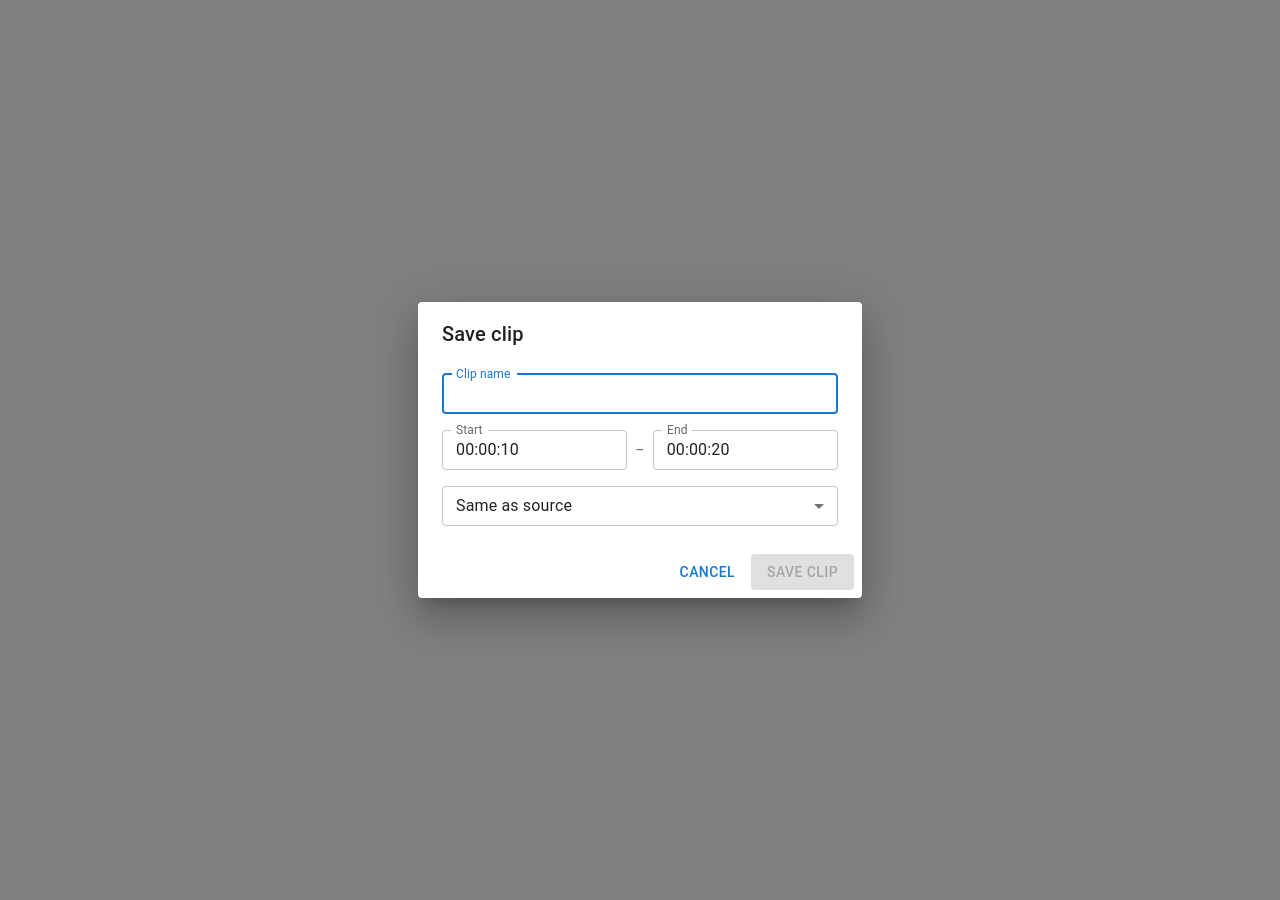
Test case: SaveClipDialog › reveals a freeform field for "Other..." and requires it before submitting
Type "New Clip" into the field labelled "Clip name" at (640, 394), box [442,374,838,414]
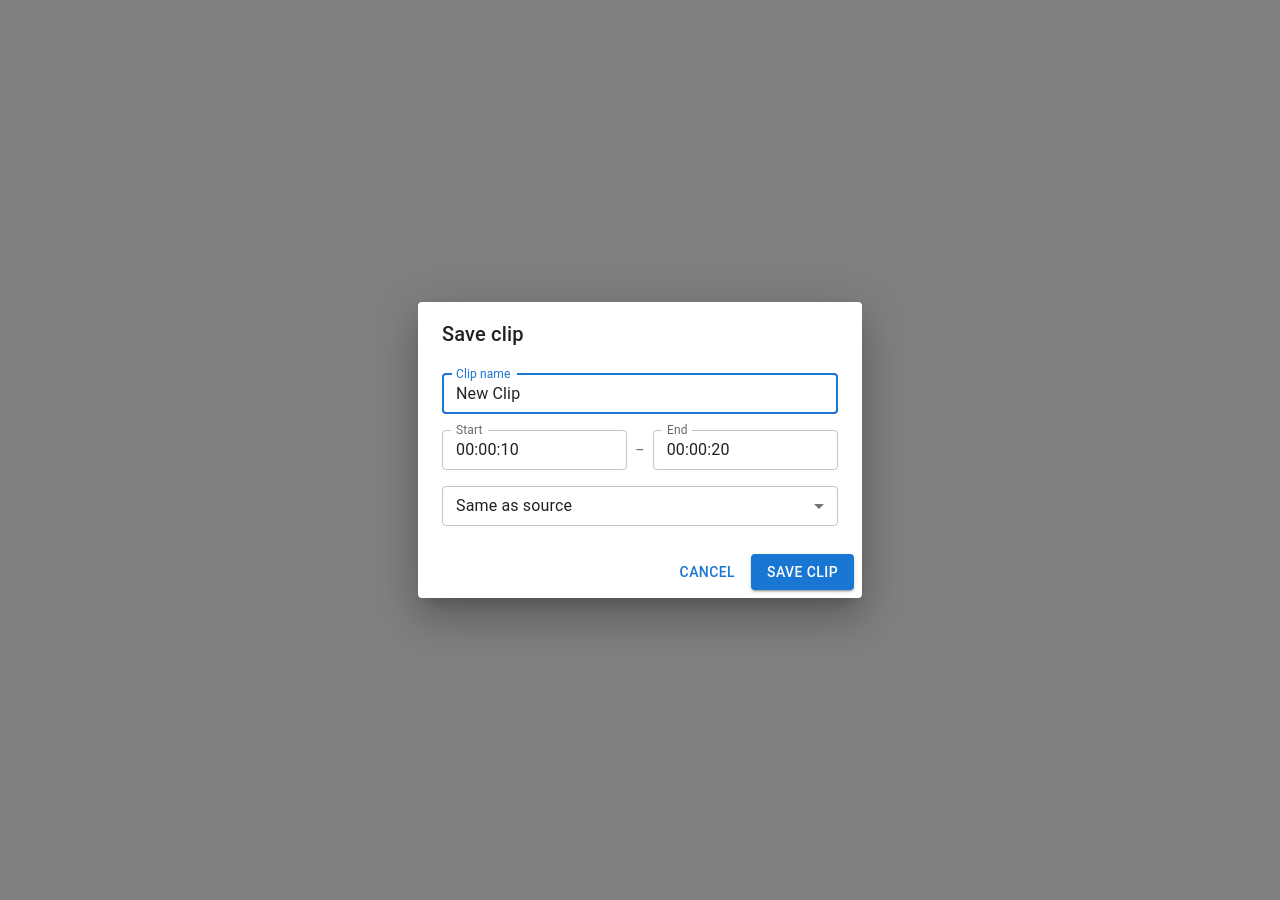
Click the dropdown at (514, 506), box [456,496,572,515]
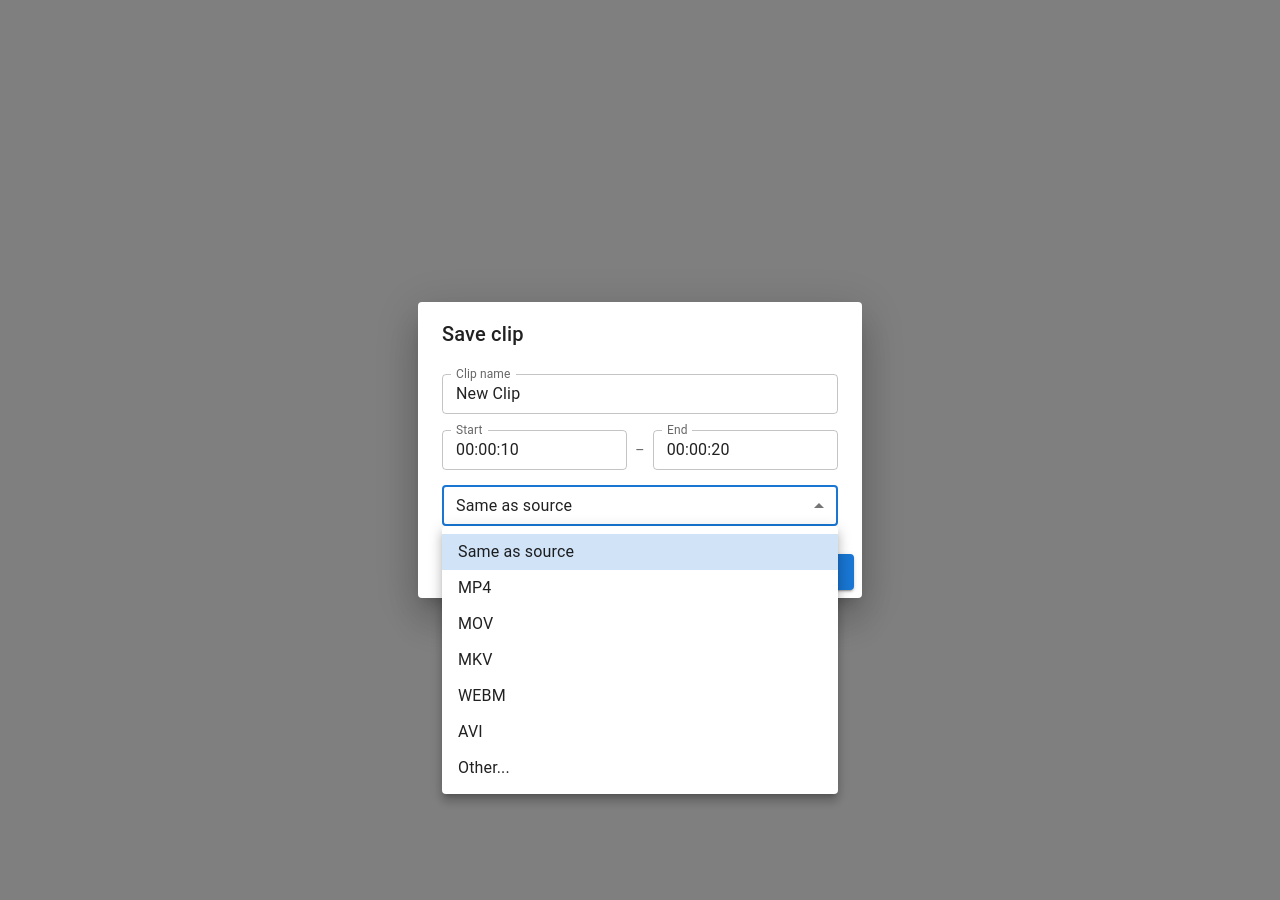
Click the option "Other..." at (484, 768), box [458,758,510,777]
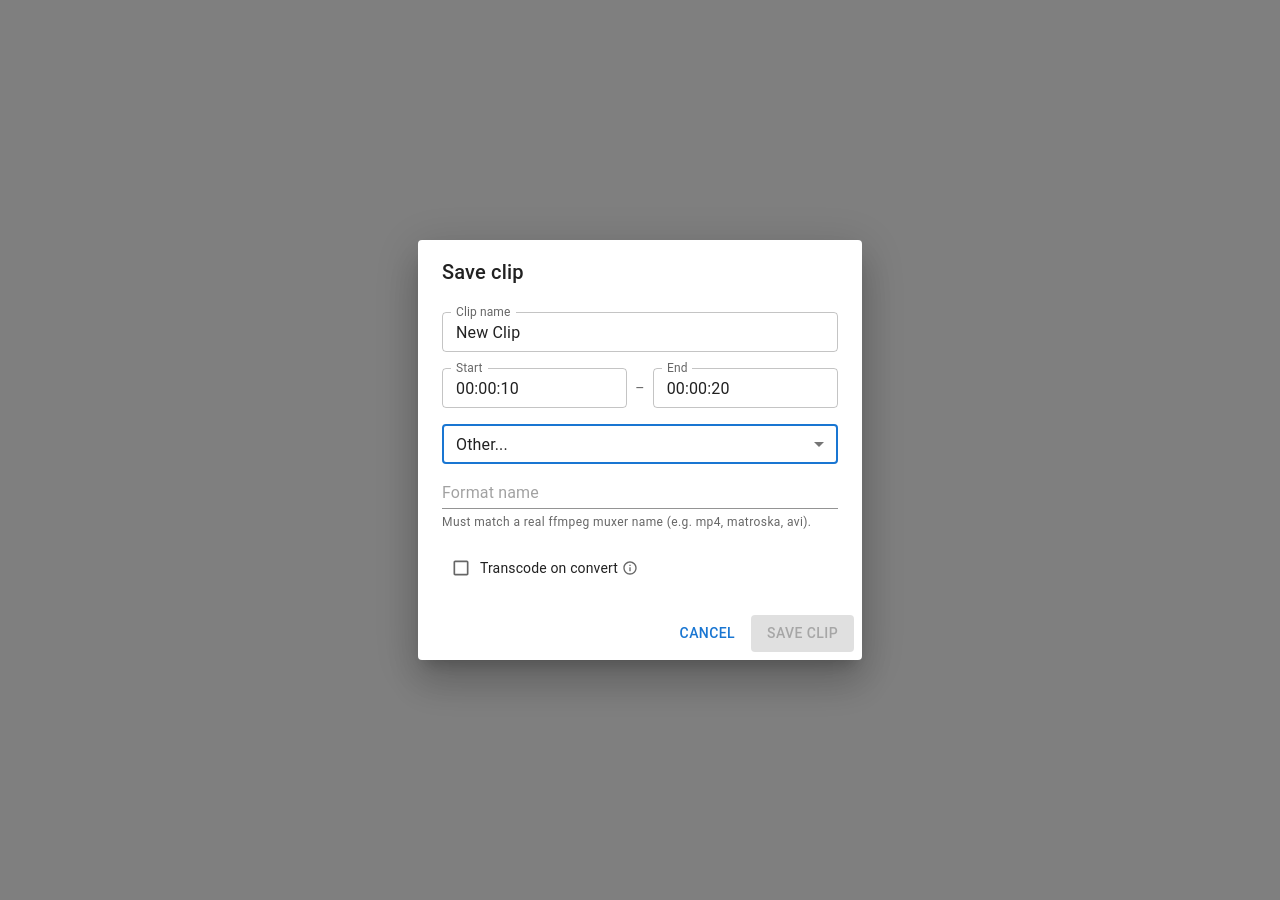
Expected: the button "Save clip" is disabled, [751,615,854,652]
Type "flac" into the field with placeholder "Format name" at (640, 495), box [442,480,838,509]
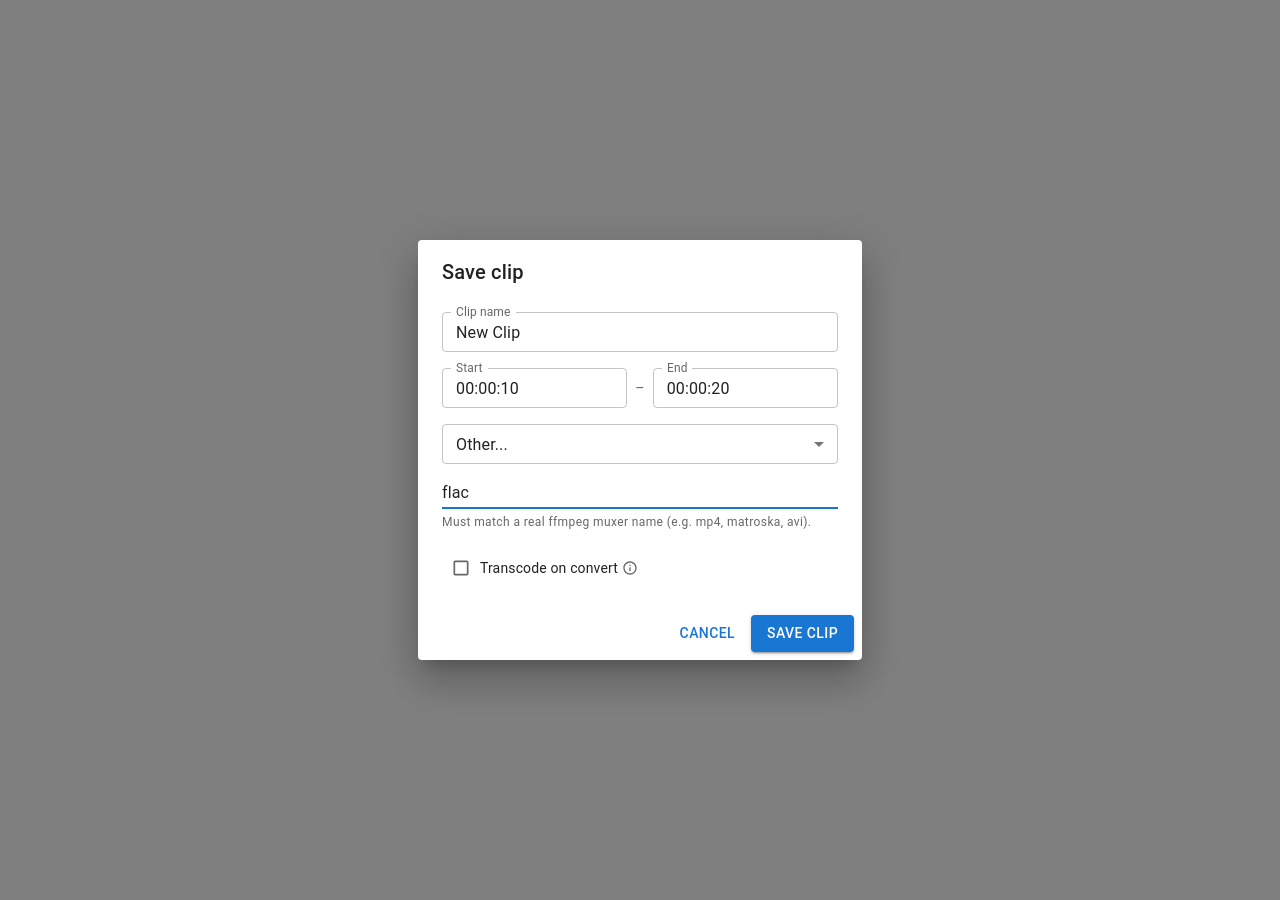
Expected: the button "Save clip" is enabled, [751,615,854,652]
